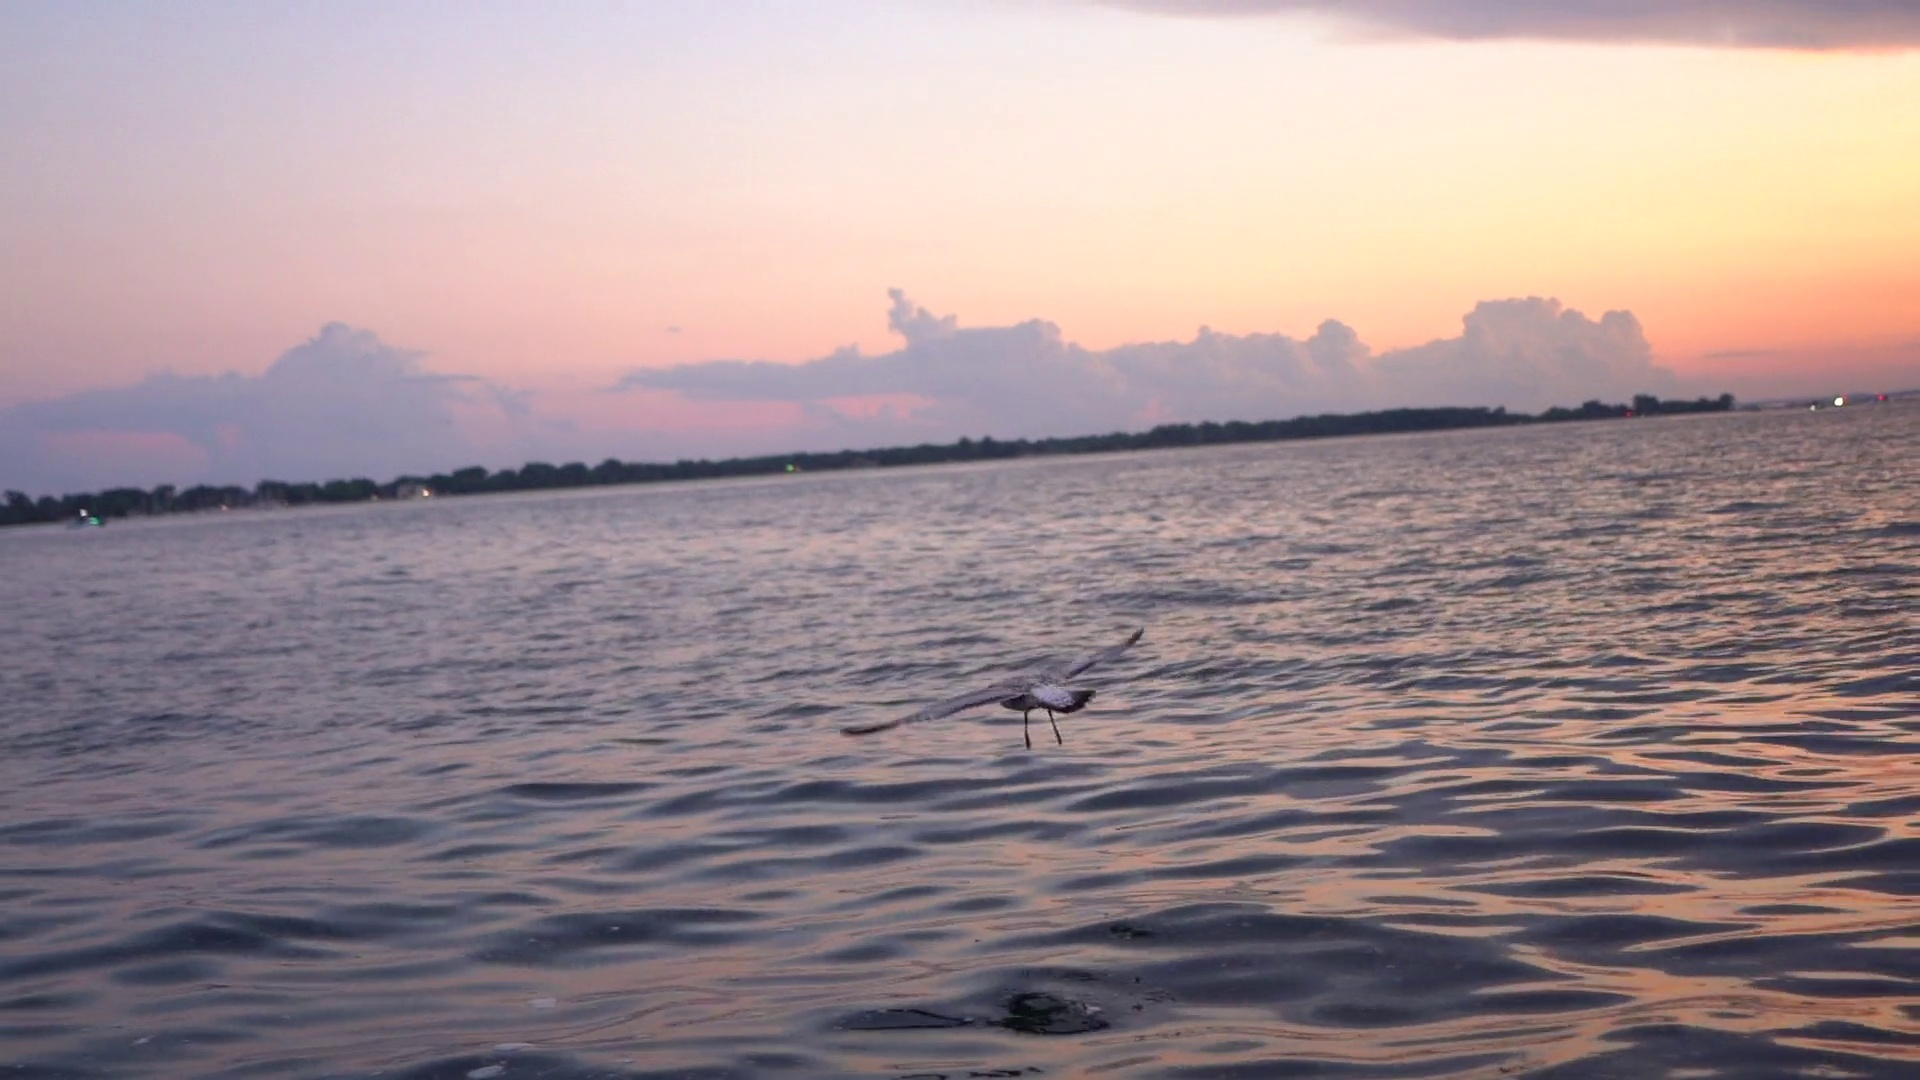bird: (840, 622, 1142, 746)
